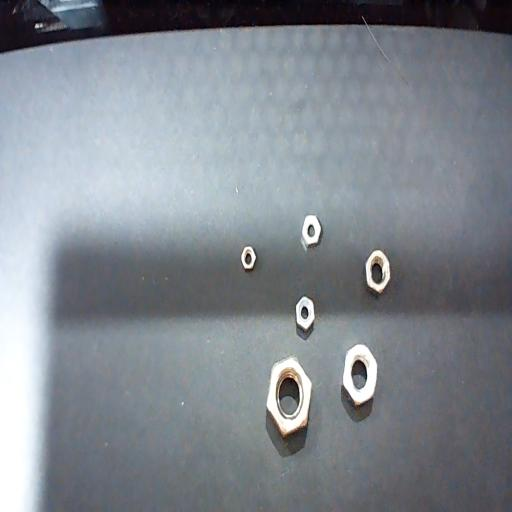nut: (265, 356, 313, 440), (341, 342, 378, 408), (364, 248, 392, 296), (301, 214, 322, 250), (295, 296, 315, 333), (240, 245, 256, 271)
